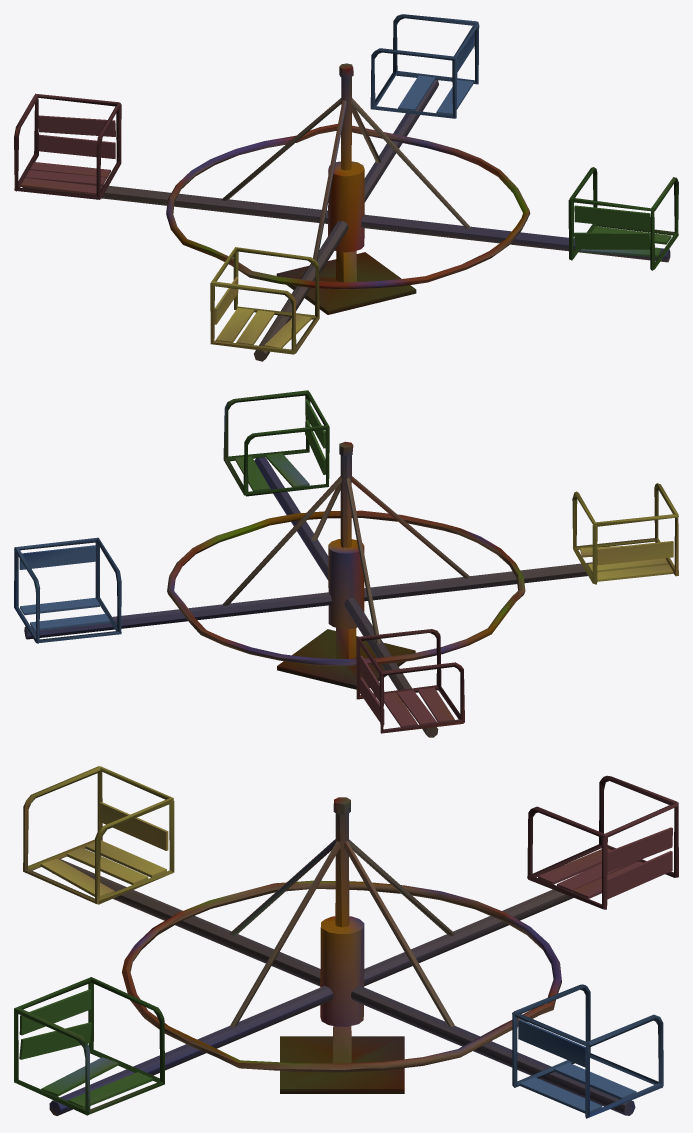
Rendered from Karusel.fbx.
The picture shows the model from 3 angles, top to bottom: view 1: azimuth 30°, elevation 25°; view 2: azimuth 150°, elevation 25°; view 3: azimuth 270°, elevation 25°; orthographic projection. The views are drawn at different scales.
Parts seen in each view (by area): view 1: Karusel, Karusel.001; view 2: Karusel, Karusel.001; view 3: Karusel, Karusel.001.
Boxes of the visible parts, <box> form: Karusel: <box>14,14,678,361</box>; Karusel.001: <box>276,251,416,314</box>; Karusel: <box>14,390,678,737</box>; Karusel.001: <box>277,627,415,689</box>; Karusel: <box>14,766,678,1118</box>; Karusel.001: <box>280,1026,404,1093</box>.
Bounding box in the file's own units: 8.85 × 8.94 × 3.96.
